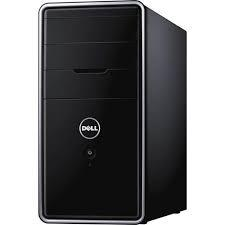pc: (36, 0, 192, 225)
